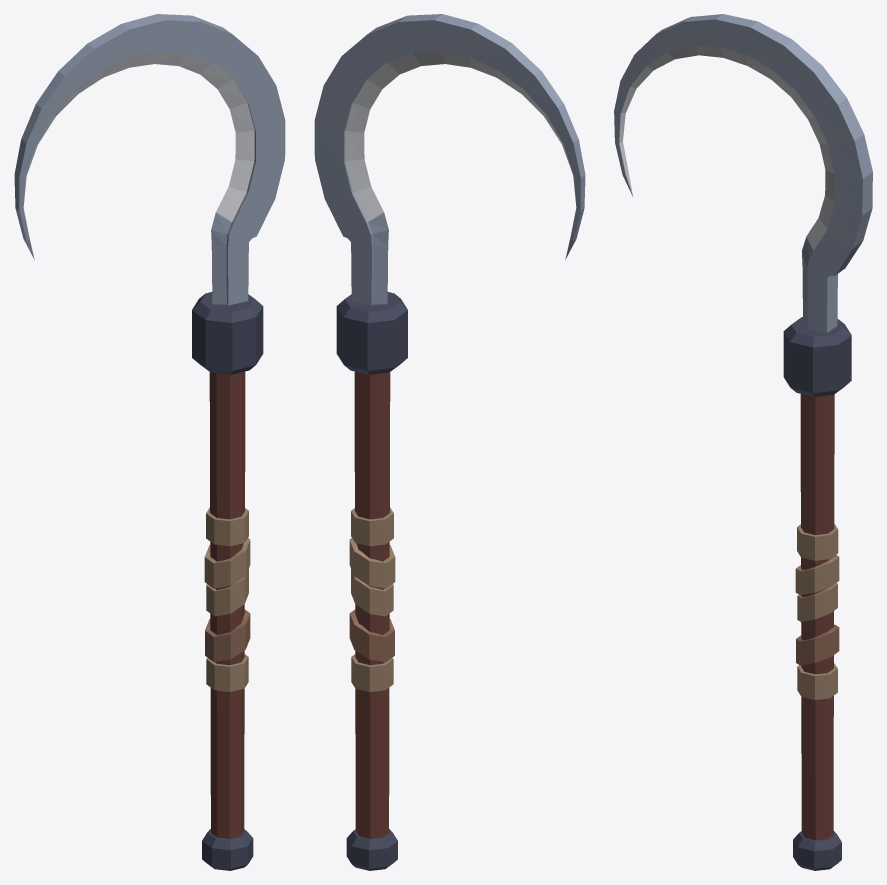
File: hooked-blade-ea78f4.glb
3 renders of one model, left to right at view 1: azimuth 30°, elevation 25°; view 2: azimuth 150°, elevation 25°; view 3: azimuth 330°, elevation 25°, orthographic. The views are drawn at different scales.
Parts seen in each view (by area): view 1: blade-metal, haft-matte, haft-metal; view 2: blade-metal, haft-matte, haft-metal; view 3: blade-metal, haft-matte, haft-metal.
Part boxes in pixels (<box>): blade-metal: <box>14,14,285,305</box>; haft-matte: <box>204,371,250,838</box>; haft-metal: <box>192,292,263,870</box>; blade-metal: <box>314,14,585,305</box>; haft-matte: <box>349,371,395,838</box>; haft-metal: <box>336,292,407,870</box>; blade-metal: <box>614,14,872,333</box>; haft-matte: <box>795,394,839,840</box>; haft-metal: <box>783,317,851,870</box>.
Size of the model in its own units: 0.3294 by 1.03 by 0.0721.
